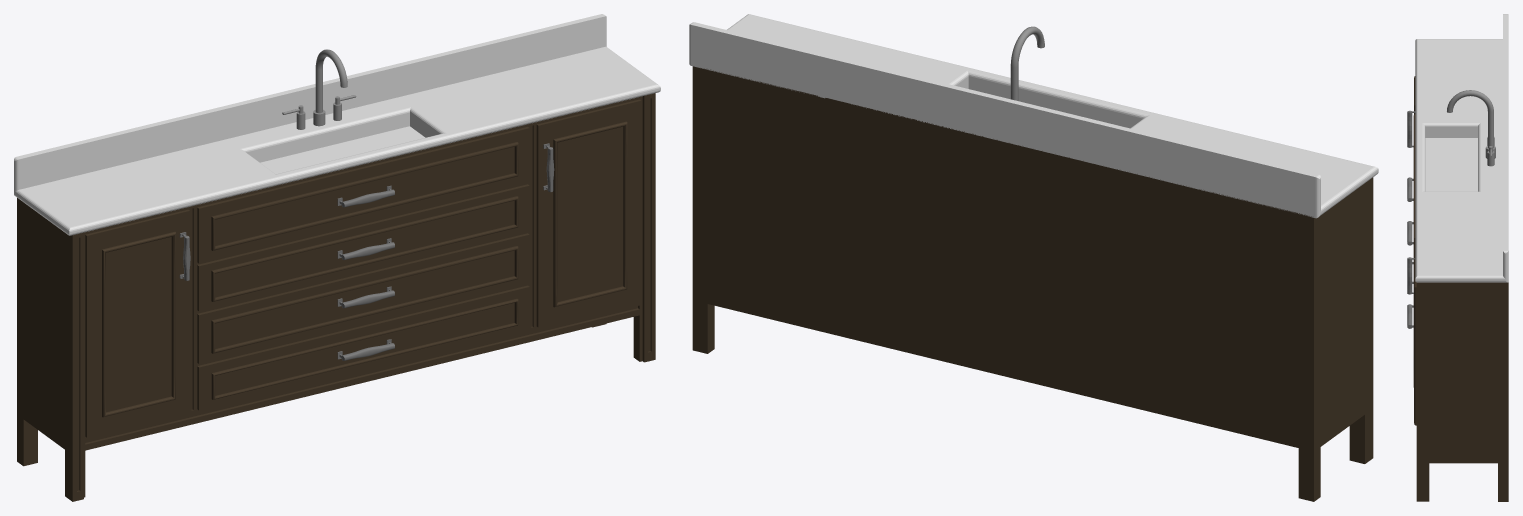
Rendered from Lavabo_20x10.fbx.
3 views of the same model, side by side, from view 1: azimuth 30°, elevation 25°; view 2: azimuth 150°, elevation 25°; view 3: azimuth 270°, elevation 25° (orthographic). The views are drawn at different scales.
Parts seen in each view (by area): view 1: Lavabo_Cajones_GEO, Lavabo_Superficie_GEO, Lavabo_Llaves_GEO; view 2: Lavabo_Cajones_GEO, Lavabo_Superficie_GEO, Lavabo_Llaves_GEO; view 3: Lavabo_Superficie_GEO, Lavabo_Cajones_GEO, Lavabo_Llaves_GEO, Lavabo_Manija06_GEO, Lavabo_Manija05_GEO, Lavabo_Manija01_GEO, Lavabo_Manija04_GEO, Lavabo_Manija02_GEO.
Part boxes in pixels (x1,y1,x2,y2): Lavabo_Cajones_GEO: (17, 93, 655, 501); Lavabo_Superficie_GEO: (14, 14, 660, 235); Lavabo_Llaves_GEO: (282, 49, 356, 129); Lavabo_Cajones_GEO: (692, 66, 1373, 501); Lavabo_Superficie_GEO: (689, 14, 1378, 218); Lavabo_Llaves_GEO: (1010, 26, 1044, 100); Lavabo_Superficie_GEO: (1415, 14, 1508, 282); Lavabo_Cajones_GEO: (1413, 76, 1508, 501); Lavabo_Llaves_GEO: (1447, 90, 1495, 166); Lavabo_Manija06_GEO: (1407, 110, 1415, 147); Lavabo_Manija05_GEO: (1407, 257, 1414, 294); Lavabo_Manija01_GEO: (1407, 177, 1413, 201); Lavabo_Manija04_GEO: (1407, 304, 1413, 328); Lavabo_Manija02_GEO: (1407, 221, 1413, 245).
Size of the model in its own units: 20.3 by 11.67 by 3.63.
